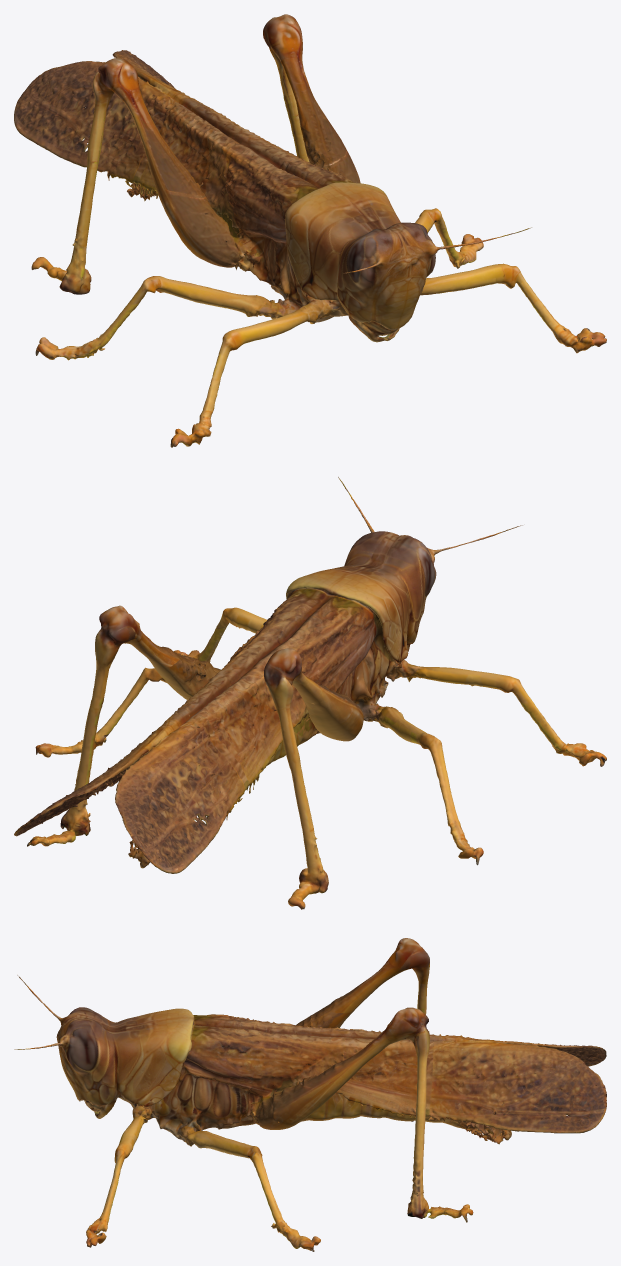
Rendered from new_orthoptere.glb.
3 renders of one model, top to bottom at view 1: azimuth 30°, elevation 25°; view 2: azimuth 150°, elevation 25°; view 3: azimuth 270°, elevation 25°, orthographic. The views are drawn at different scales.
Size of the model in its own units: 1.33 by 0.6622 by 1.82.
Materials: 1 (1 with a texture image).
